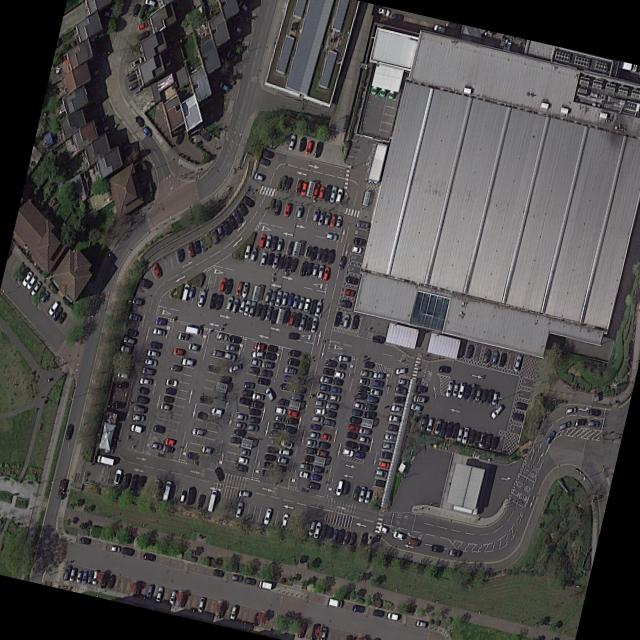large-vehicle: (55, 479, 66, 500)
small-vehicle: (133, 474, 146, 498), (159, 479, 171, 502), (205, 488, 216, 513), (488, 403, 502, 420), (18, 270, 32, 287), (229, 207, 242, 225), (183, 324, 201, 337), (127, 474, 138, 495), (296, 619, 307, 640), (94, 454, 113, 466), (15, 265, 28, 282), (454, 339, 465, 359), (240, 194, 254, 209), (149, 478, 159, 499), (126, 77, 140, 92), (219, 218, 230, 237), (45, 300, 57, 317), (28, 280, 40, 297), (23, 274, 35, 291), (459, 425, 469, 445), (417, 413, 427, 433), (132, 579, 142, 599), (150, 261, 161, 279), (225, 213, 236, 231), (228, 297, 239, 315), (215, 601, 226, 619), (136, 276, 150, 290), (325, 597, 341, 609), (543, 429, 555, 445), (50, 305, 62, 321), (321, 183, 331, 202), (357, 531, 367, 550), (311, 520, 321, 539), (443, 379, 453, 398), (111, 468, 121, 487), (233, 500, 243, 519), (261, 507, 271, 526), (179, 283, 189, 302), (212, 465, 223, 482), (223, 49, 237, 62), (332, 187, 342, 205), (309, 182, 319, 200), (311, 140, 321, 158), (392, 384, 407, 396), (430, 23, 445, 35), (511, 354, 521, 372), (455, 381, 465, 399), (333, 479, 343, 497), (197, 394, 212, 406), (177, 592, 187, 610), (278, 512, 288, 530), (153, 585, 163, 603), (313, 390, 328, 402), (195, 290, 205, 308), (287, 257, 298, 273), (236, 201, 247, 217), (184, 486, 193, 505), (307, 245, 317, 262), (312, 300, 322, 317), (261, 287, 271, 304), (256, 304, 266, 321), (240, 299, 250, 316), (257, 250, 267, 267), (475, 431, 485, 448), (431, 418, 441, 435), (423, 417, 433, 434), (355, 486, 365, 503), (223, 295, 233, 312), (63, 423, 73, 440), (309, 623, 319, 640), (195, 597, 205, 614), (128, 56, 141, 69), (216, 80, 229, 93), (356, 425, 370, 437), (208, 406, 222, 418), (221, 351, 235, 363), (226, 333, 240, 345), (130, 404, 145, 415), (179, 357, 194, 368), (37, 289, 48, 304), (256, 579, 271, 590), (140, 551, 155, 562), (327, 185, 336, 203), (334, 527, 343, 545), (272, 289, 281, 307), (185, 240, 194, 258), (208, 227, 217, 245), (271, 199, 280, 217), (471, 430, 480, 448), (437, 420, 446, 438), (61, 564, 70, 582), (207, 292, 216, 310), (331, 311, 341, 327), (322, 525, 332, 541), (328, 528, 338, 544), (306, 299, 316, 315), (302, 317, 312, 333), (266, 291, 276, 307), (267, 309, 277, 325), (241, 244, 251, 260), (482, 434, 492, 450), (463, 344, 473, 360), (466, 385, 476, 401), (263, 386, 273, 402), (194, 494, 204, 510), (166, 589, 176, 605), (259, 147, 272, 159), (557, 420, 570, 432), (340, 446, 353, 458), (120, 545, 133, 557), (236, 0, 248, 13), (171, 346, 184, 358), (341, 287, 355, 298), (344, 275, 358, 286), (351, 236, 365, 247), (390, 530, 404, 541), (350, 603, 364, 614), (375, 6, 389, 17), (306, 479, 320, 490), (370, 334, 384, 345), (386, 413, 400, 424), (345, 422, 359, 433), (321, 417, 335, 428), (323, 400, 337, 411), (151, 423, 165, 434), (142, 356, 156, 367), (139, 366, 153, 377), (127, 423, 141, 434), (114, 369, 128, 380), (140, 125, 151, 139), (132, 114, 143, 128), (282, 424, 296, 435), (150, 326, 164, 337), (126, 312, 140, 323), (121, 335, 135, 346), (369, 78, 378, 95), (350, 314, 359, 331), (315, 210, 324, 227), (306, 519, 315, 536), (297, 260, 306, 277), (280, 307, 289, 324), (246, 300, 255, 317), (286, 134, 295, 151), (262, 234, 271, 251), (257, 232, 266, 249), (377, 80, 386, 97), (443, 421, 452, 438), (119, 474, 128, 491), (386, 83, 395, 100), (144, 584, 153, 601), (223, 278, 232, 295), (213, 294, 222, 311), (320, 266, 330, 281), (301, 244, 311, 259), (303, 262, 313, 277), (300, 297, 310, 312), (281, 256, 291, 271), (357, 369, 372, 379), (129, 413, 144, 423), (190, 426, 205, 436), (277, 382, 292, 392), (146, 340, 161, 350), (340, 313, 349, 329), (336, 255, 345, 271), (321, 211, 330, 227), (324, 249, 333, 265), (318, 248, 327, 264), (317, 524, 326, 540), (346, 531, 355, 547), (298, 181, 307, 197), (293, 179, 302, 195), (282, 176, 291, 192), (191, 239, 200, 255), (308, 317, 317, 333), (296, 315, 305, 331), (295, 296, 304, 312), (289, 294, 298, 310), (278, 291, 287, 307), (198, 234, 206, 252), (282, 202, 291, 218), (269, 254, 278, 270), (268, 236, 277, 252), (247, 247, 256, 263), (489, 350, 498, 366), (350, 485, 359, 501), (239, 282, 248, 298), (227, 362, 239, 374), (136, 29, 148, 41), (98, 572, 107, 588), (216, 276, 225, 292), (323, 231, 336, 242), (348, 244, 361, 255), (257, 156, 270, 167), (356, 434, 369, 445), (343, 439, 356, 450), (149, 441, 162, 452), (185, 450, 198, 461), (237, 395, 250, 406), (234, 411, 247, 422), (206, 363, 219, 374), (264, 444, 277, 455), (320, 366, 333, 377), (317, 382, 330, 393), (291, 384, 304, 395), (323, 358, 336, 369), (270, 421, 283, 432), (298, 461, 311, 472), (278, 438, 291, 449), (214, 331, 227, 342), (337, 299, 351, 309), (354, 219, 368, 229), (389, 12, 403, 22), (395, 377, 409, 387), (366, 387, 380, 397), (364, 394, 378, 404), (410, 394, 424, 404), (436, 364, 450, 374), (373, 468, 387, 478), (354, 443, 368, 453), (315, 440, 329, 450), (313, 448, 327, 458), (163, 378, 177, 388), (144, 348, 158, 358), (137, 376, 151, 386), (56, 311, 66, 325), (112, 379, 126, 389), (251, 341, 265, 351), (223, 343, 237, 353), (310, 208, 319, 223), (327, 213, 336, 228), (340, 531, 349, 546), (291, 313, 300, 328), (286, 311, 295, 326), (263, 306, 272, 321), (252, 303, 261, 318), (303, 140, 312, 155), (296, 137, 305, 152), (285, 240, 294, 255), (214, 224, 223, 239), (466, 429, 475, 444), (449, 423, 458, 438), (497, 352, 506, 367), (478, 388, 487, 403), (472, 387, 481, 402), (461, 384, 470, 399), (133, 395, 148, 404), (233, 281, 242, 296), (130, 2, 139, 17), (66, 567, 75, 582), (376, 523, 387, 535), (251, 171, 263, 182), (351, 400, 363, 411), (514, 400, 526, 411), (163, 386, 175, 397), (158, 401, 170, 412), (195, 410, 207, 421), (235, 463, 247, 474), (247, 365, 259, 376), (230, 23, 241, 35), (210, 348, 222, 359), (405, 537, 418, 547), (384, 611, 397, 621), (370, 608, 383, 618), (389, 404, 402, 414), (356, 377, 369, 387), (382, 432, 395, 442), (361, 410, 374, 420), (352, 450, 365, 460), (348, 407, 361, 417), (347, 415, 360, 425), (344, 430, 357, 440), (309, 464, 322, 474), (118, 344, 131, 354), (262, 453, 275, 463), (256, 376, 269, 386), (231, 428, 244, 438), (242, 576, 255, 586), (210, 568, 223, 578), (267, 428, 280, 438), (286, 357, 299, 367), (282, 365, 295, 375), (292, 376, 305, 386), (273, 405, 286, 415), (258, 368, 271, 378), (248, 357, 261, 367), (318, 374, 331, 384), (309, 414, 322, 424), (284, 416, 297, 426), (272, 414, 285, 424), (185, 342, 198, 352), (175, 331, 188, 341), (123, 327, 136, 337), (175, 247, 183, 263), (285, 291, 293, 307), (481, 348, 489, 364), (228, 604, 236, 620), (105, 573, 113, 589), (89, 570, 97, 586), (333, 215, 342, 229), (309, 263, 318, 277), (447, 548, 461, 557), (317, 626, 326, 640), (236, 299, 245, 313), (510, 412, 524, 421), (340, 481, 349, 495), (335, 354, 349, 363), (177, 490, 186, 504), (251, 613, 260, 627), (73, 570, 82, 584), (275, 447, 289, 456), (332, 369, 343, 380), (136, 20, 147, 31), (294, 204, 302, 219), (315, 265, 323, 280), (274, 237, 282, 252), (308, 472, 320, 482), (454, 427, 462, 442), (484, 389, 492, 404), (379, 450, 391, 460), (319, 432, 331, 442), (385, 423, 397, 433), (327, 393, 339, 403), (162, 437, 174, 447), (160, 444, 172, 454), (168, 363, 180, 373), (260, 468, 272, 478), (247, 407, 259, 417), (235, 455, 247, 465), (218, 375, 230, 385), (199, 445, 211, 455), (267, 436, 279, 446), (313, 399, 325, 409), (286, 331, 298, 341), (276, 397, 288, 407), (289, 392, 301, 402), (263, 351, 275, 361), (302, 446, 314, 456), (274, 455, 286, 465), (428, 544, 441, 553), (413, 619, 426, 628), (129, 297, 142, 306), (362, 402, 375, 411), (392, 395, 405, 404), (371, 371, 384, 380), (355, 385, 368, 394), (408, 403, 421, 412), (380, 441, 393, 450), (160, 395, 173, 404), (249, 392, 262, 401), (249, 400, 262, 409), (245, 423, 258, 432), (241, 381, 254, 390), (77, 536, 90, 545), (281, 374, 294, 383), (153, 317, 166, 326), (316, 186, 324, 200), (314, 247, 322, 261), (265, 252, 273, 266), (488, 436, 496, 450), (450, 383, 458, 397), (412, 385, 426, 393), (362, 490, 370, 504), (109, 400, 123, 408), (79, 570, 87, 584), (377, 460, 388, 470), (324, 409, 335, 419), (307, 430, 318, 440), (362, 360, 374, 369), (354, 392, 366, 401), (393, 366, 405, 375), (586, 419, 598, 428), (372, 479, 384, 488), (330, 378, 342, 387), (329, 386, 341, 395), (261, 461, 273, 470), (228, 436, 240, 445), (236, 489, 248, 498), (230, 574, 242, 583), (304, 438, 316, 447), (285, 409, 297, 418), (370, 380, 383, 388), (586, 408, 599, 416), (573, 418, 586, 426), (489, 392, 497, 405), (287, 349, 300, 357), (259, 361, 272, 369), (126, 72, 136, 82), (564, 406, 575, 415), (248, 416, 259, 425), (238, 448, 249, 457), (240, 388, 251, 397), (266, 344, 277, 353), (302, 454, 313, 463), (297, 470, 308, 479), (277, 256, 284, 270), (85, 570, 92, 584), (186, 285, 193, 299), (136, 387, 148, 395), (233, 421, 245, 429), (142, 0, 154, 8), (312, 408, 324, 416), (250, 350, 262, 358), (108, 545, 119, 553), (310, 423, 320, 431), (102, 447, 113, 454), (344, 634, 351, 640), (350, 636, 357, 640)
